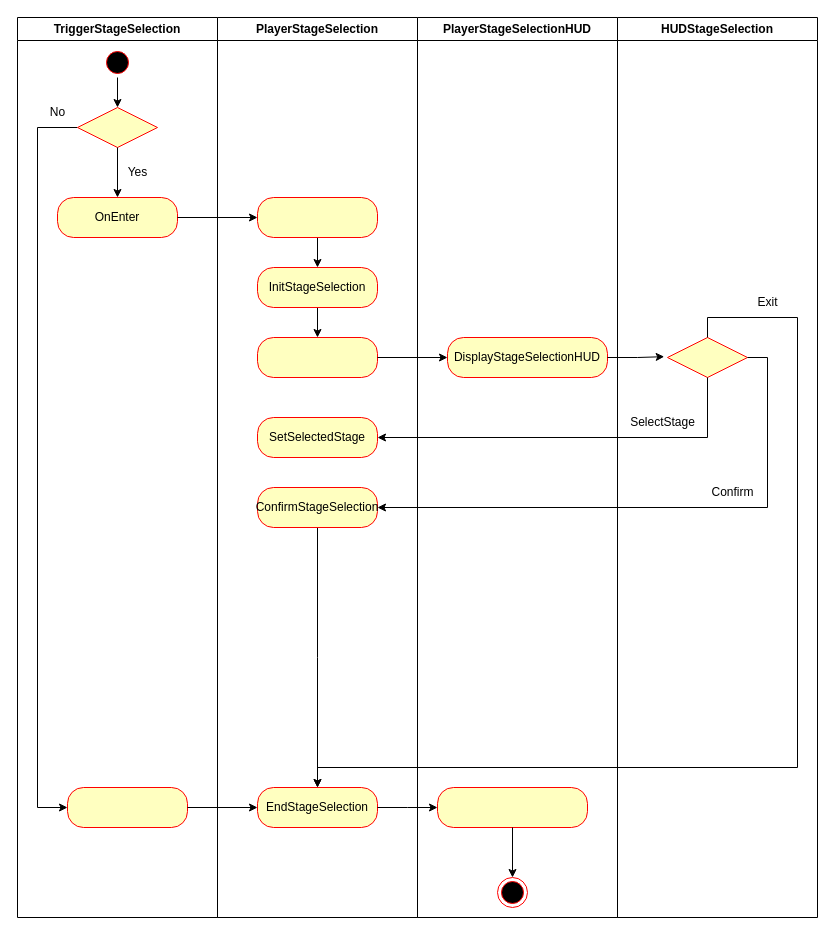
The diagram is 835 pixels wide and 935 high, and some of its shapes have lost their labels. The centre of each missing label's shape, as x and y in pixels:
BeginStageSelection: (317,217)
CloseStageSelectionHUD: (512,807)
Enter Trigger: (117,127)
OnExit: (127,807)
ResetStageSelection: (317,357)
